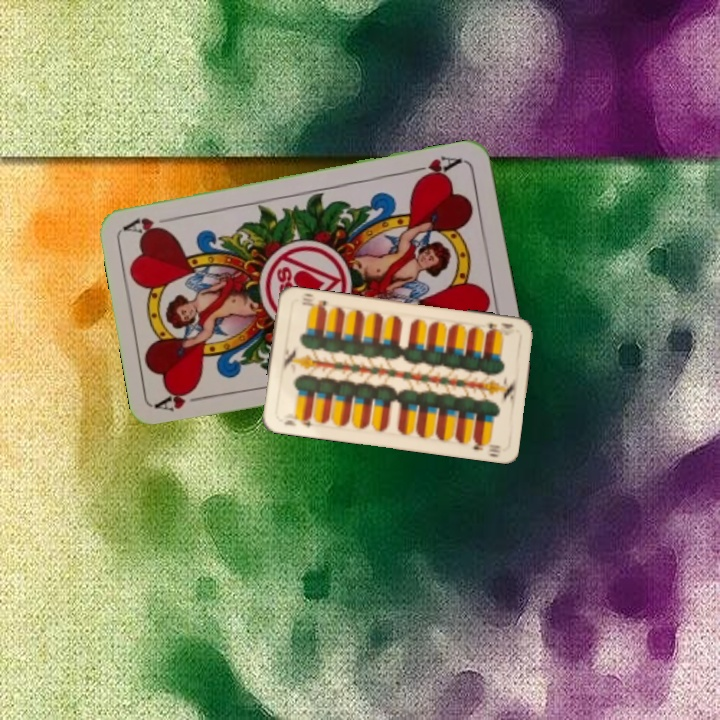E10: (280, 413, 316, 430), (483, 319, 515, 335)
HA: (154, 382, 213, 415), (407, 152, 464, 183)
